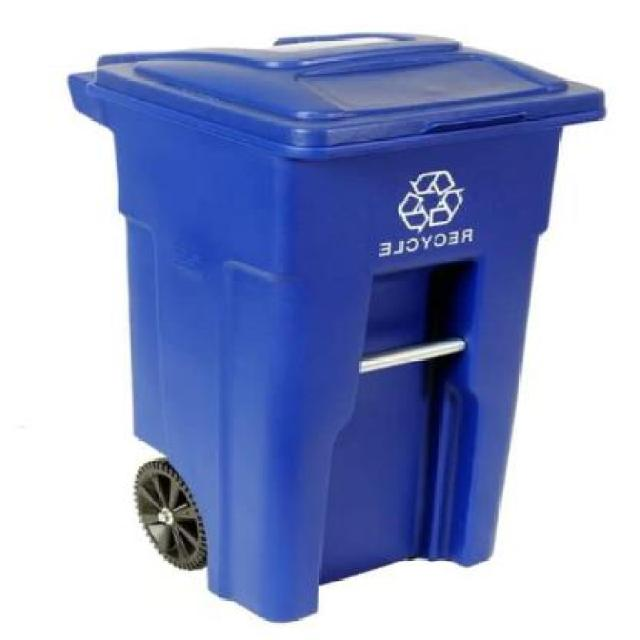garbage container: (53, 25, 619, 632)
